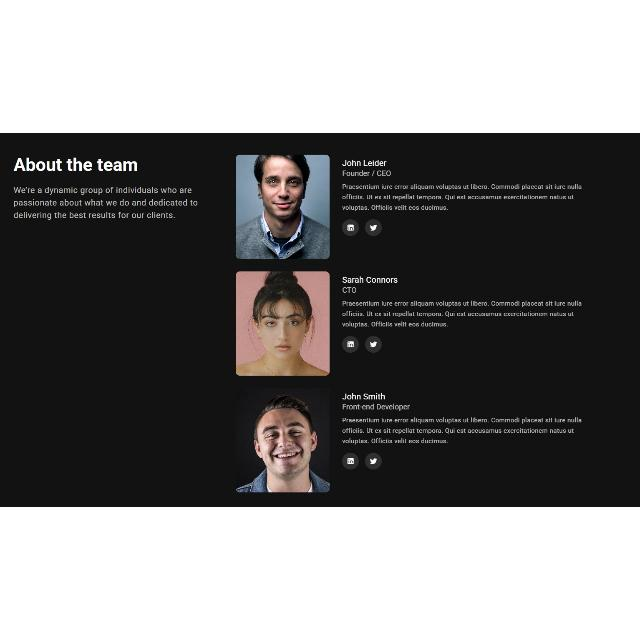QLabel: (341, 300, 585, 330), (340, 183, 582, 213), (342, 416, 582, 446), (12, 186, 198, 220), (12, 156, 138, 172), (341, 404, 411, 411), (341, 276, 397, 284), (342, 169, 392, 177), (342, 392, 388, 400), (342, 159, 386, 167), (342, 287, 356, 293)
VIcon: (366, 336, 382, 354), (366, 452, 382, 470), (342, 220, 358, 237), (343, 454, 359, 471), (365, 220, 381, 236), (343, 336, 359, 352)
VImg: (234, 388, 330, 494), (234, 271, 330, 377), (236, 154, 330, 260)
